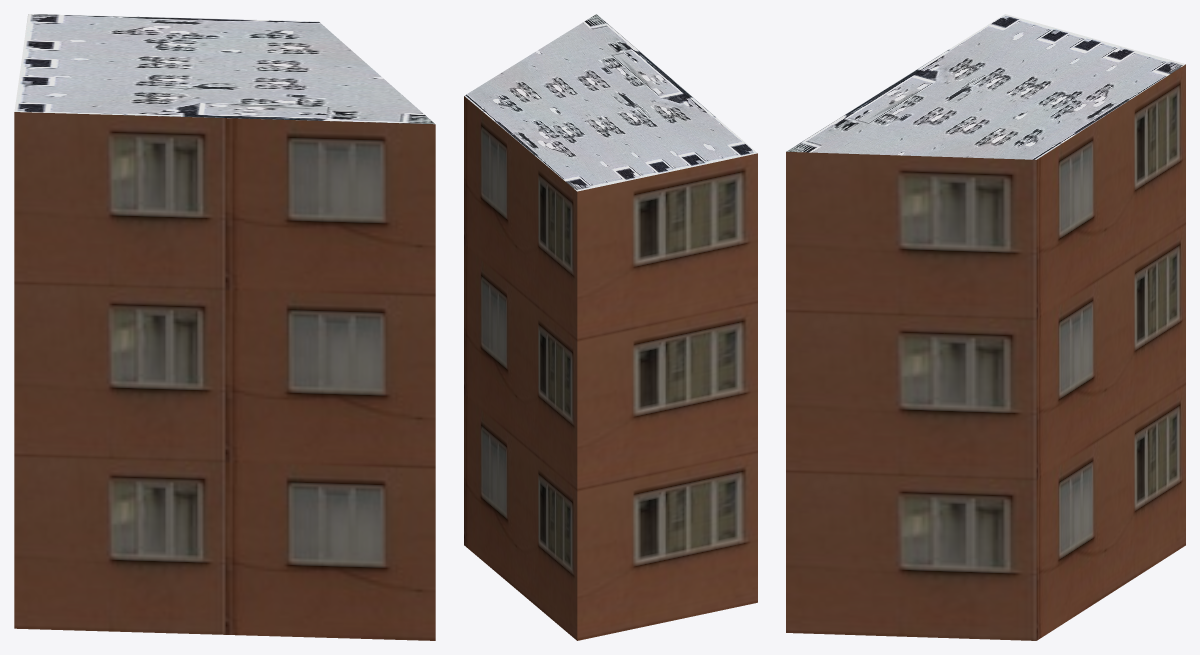
Rendered from ResTex__490.fbx.
3 renders of one model, left to right at view 1: azimuth 30°, elevation 25°; view 2: azimuth 150°, elevation 25°; view 3: azimuth 270°, elevation 25°, orthographic. The views are drawn at different scales.
Visible parts, largest first — view 1: CityEngineMaterial_20_m, CityEngineMaterial_8_m; view 2: CityEngineMaterial_20_m, CityEngineMaterial_8_m; view 3: CityEngineMaterial_20_m, CityEngineMaterial_8_m.
Part boxes in pixels (left/top/right/bottom): CityEngineMaterial_20_m: left=14, top=112, right=435, bottom=640; CityEngineMaterial_8_m: left=14, top=14, right=434, bottom=124; CityEngineMaterial_20_m: left=464, top=96, right=757, bottom=640; CityEngineMaterial_8_m: left=464, top=14, right=757, bottom=191; CityEngineMaterial_20_m: left=786, top=64, right=1185, bottom=640; CityEngineMaterial_8_m: left=786, top=14, right=1185, bottom=159.
Bounding box in the file's own units: 5.85 × 9 × 6.78.
2 materials, 2 textured.
